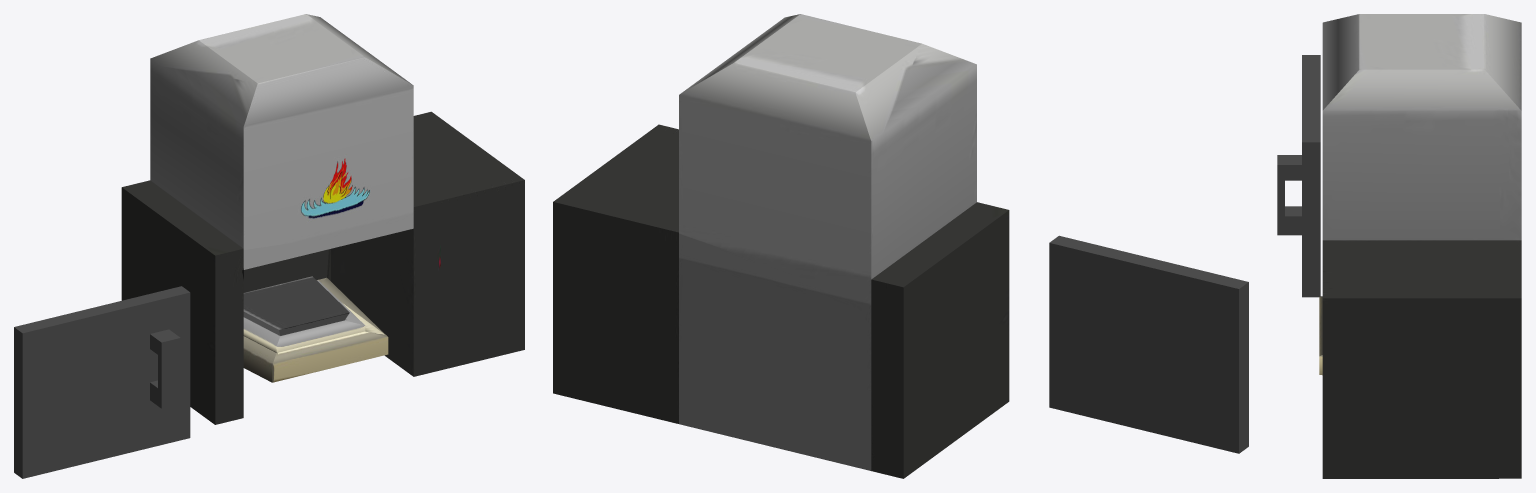
The model's file is Oven.fbx.
The picture shows the model from 3 angles, left to right: view 1: azimuth 30°, elevation 25°; view 2: azimuth 150°, elevation 25°; view 3: azimuth 270°, elevation 25°; orthographic projection. The views are drawn at different scales.
Visible parts, largest first — view 1: Oven, Oven_door; view 2: Oven, Oven_door; view 3: Oven, Oven_door.
Boxes of the visible parts, x1,y1,x2,y2 form: Oven: (121,14,524,424); Oven_door: (14,286,190,478); Oven: (553,14,1009,478); Oven_door: (1049,235,1248,453); Oven: (1319,14,1521,478); Oven_door: (1277,55,1320,297).
Bounding box in the file's own units: 341 × 200 × 132.
2 materials, 1 textured.
